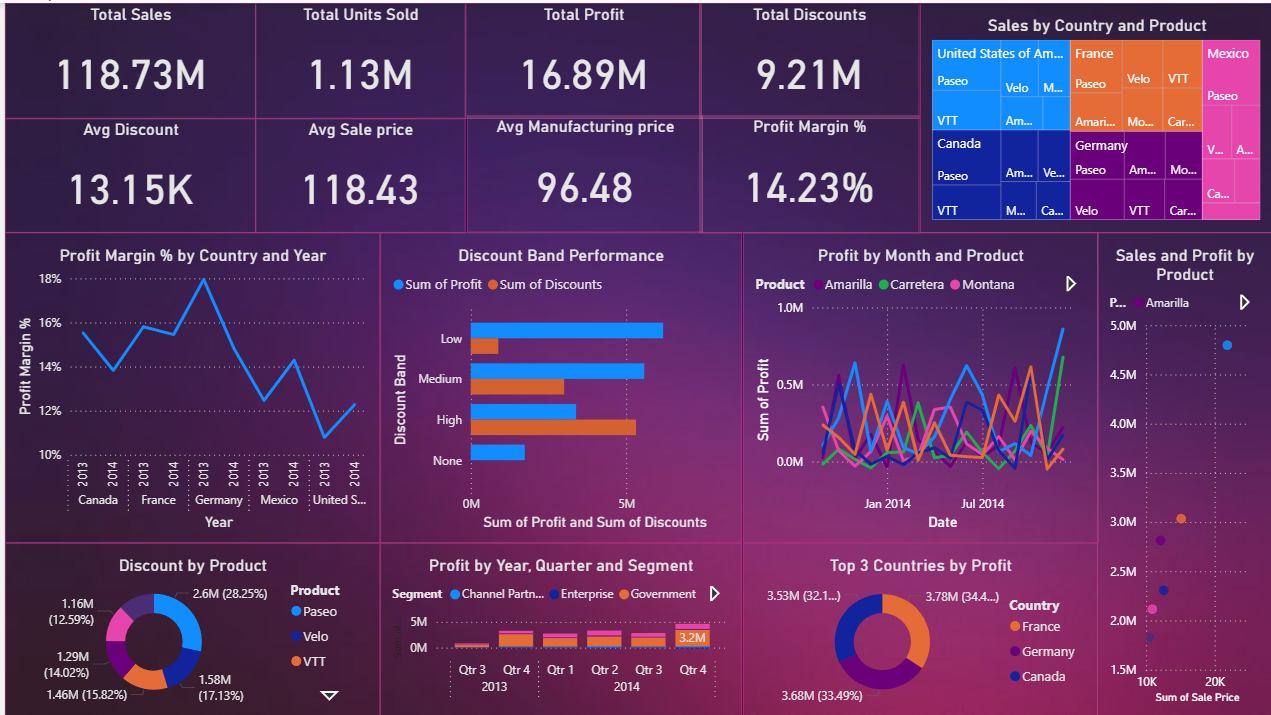

Layout of this report page (visuals, bound fields, positions):
{"tool":"powerbi","page":{"name":"Summary Page","canvas":[1280,720],"ordinal":2},"visuals":[{"type":"cardVisual","title":"Total Sales","fields":{"Data":["Sheet1.Total Sales"]},"box":[0,0,253.3,116.7],"z":0},{"type":"cardVisual","title":"Avg Discount","fields":{"Data":["Sheet1.Average Discount"]},"box":[0,116.7,253.3,115],"z":1000},{"type":"cardVisual","title":"Total Discounts","fields":{"Data":["Sum(Sheet1.Discounts)"]},"box":[703.3,0,221.7,116.7],"z":2000},{"type":"cardVisual","title":"Total Units Sold","fields":{"Data":["Sum(Sheet1.Units Sold)"]},"box":[253.3,0,211.7,116.7],"z":3000},{"type":"cardVisual","title":"Total Profit","fields":{"Data":["Sum(Sheet1.Profit)"]},"box":[465,0,238.3,116.7],"z":4000},{"type":"cardVisual","title":"Avg Manufacturing price","fields":{"Data":["Sheet1.Average Manufacturing Price"]},"box":[465,116.7,238.3,115],"z":5000},{"type":"cardVisual","title":"Profit Margin %","fields":{"Data":["Sheet1.Profit Margin %"]},"box":[703.3,116.7,221.7,120],"z":6000},{"type":"cardVisual","title":"Avg Sale price ","fields":{"Data":["Sheet1.Average Sale Price"]},"box":[253.3,116.7,211.7,115],"z":7000},{"type":"treemap","title":"Sales by Country and Product","fields":{"Group":["Sheet1.Country"],"Details":["Sheet1.Product"],"Values":["Sheet1.Total Sales"]},"box":[925,0,355,236.7],"z":8000},{"type":"lineChart","fields":{"Category":["Sheet1.Country","DateDimension.Date.Variation.Date Hierarchy.Year"],"Y":["Sheet1.Profit Margin %"]},"box":[0,231.7,378.3,313.3],"z":9000},{"type":"clusteredBarChart","title":"Discount Band Performance","fields":{"Category":["Sheet1.Discount Band"],"Y":["Sum(Sheet1.Profit)","Sum(Sheet1.Discounts)"]},"box":[378.3,231.7,365,313.3],"z":10000},{"type":"donutChart","title":"Profit by Product","fields":{"Category":["Sheet1.Product"],"Y":["Sum(Sheet1.Profit)"]},"box":[0,545,378.3,175],"z":11000},{"type":"columnChart","title":"Profit by Year, Quarter and Segment","fields":{"Category":["DateDimension.Date.Variation.Date Hierarchy.Year","DateDimension.Date.Variation.Date Hierarchy.Quarter"],"Y":["Sum(Sheet1.Profit)"],"Series":["Sheet1.Segment"]},"box":[378.3,545,365,175],"z":12000},{"type":"areaChart","title":"Profit by Month and Product","fields":{"Category":["DateDimension.Date.Variation.Date Hierarchy.Month"],"Y":["Sum(Sheet1.Profit)"],"Series":["Sheet1.Product"]},"box":[745,236.7,358.3,308.3],"z":13000},{"type":"donutChart","title":"Top 3 Countries by Profit ","fields":{"Category":["Sheet1.Country"],"Y":["Sum(Sheet1.Profit)"]},"box":[745,545,358,175],"z":14000},{"type":"scatterChart","title":"Sales and Profit by Product","fields":{"X":["Sum(Sheet1.Sale Price)"],"Y":["Sum(Sheet1.Profit)"],"Series":["Sheet1.Product"]},"box":[1103.3,236.7,176.7,483.3],"z":15000}]}

Visuals, with their boxes in screenshot pixels (x1, y1, x2, y2), scaled from the page's 1280x720 canvas onto the 1271x715 screenshot:
"Total Sales" cardVisual: select_region(0, 0, 252, 116)
"Avg Discount" cardVisual: select_region(0, 116, 252, 230)
"Total Discounts" cardVisual: select_region(698, 0, 918, 116)
"Total Units Sold" cardVisual: select_region(252, 0, 462, 116)
"Total Profit" cardVisual: select_region(462, 0, 698, 116)
"Avg Manufacturing price" cardVisual: select_region(462, 116, 698, 230)
"Profit Margin %" cardVisual: select_region(698, 116, 918, 235)
"Avg Sale price " cardVisual: select_region(252, 116, 462, 230)
"Sales by Country and Product" treemap: select_region(918, 0, 1270, 235)
lineChart - Sheet1.Country x DateDimension.Date.Variation.Date Hierarchy.Year: select_region(0, 230, 376, 541)
"Discount Band Performance" clusteredBarChart: select_region(376, 230, 738, 541)
"Profit by Product" donutChart: select_region(0, 541, 376, 714)
"Profit by Year, Quarter and Segment" columnChart: select_region(376, 541, 738, 714)
"Profit by Month and Product" areaChart: select_region(740, 235, 1096, 541)
"Top 3 Countries by Profit " donutChart: select_region(740, 541, 1095, 714)
"Sales and Profit by Product" scatterChart: select_region(1096, 235, 1270, 714)
